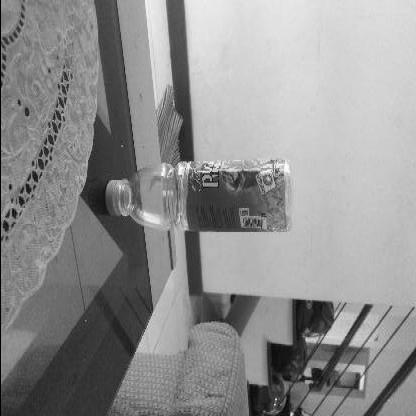plastic_bottles: (101, 150, 295, 240)
